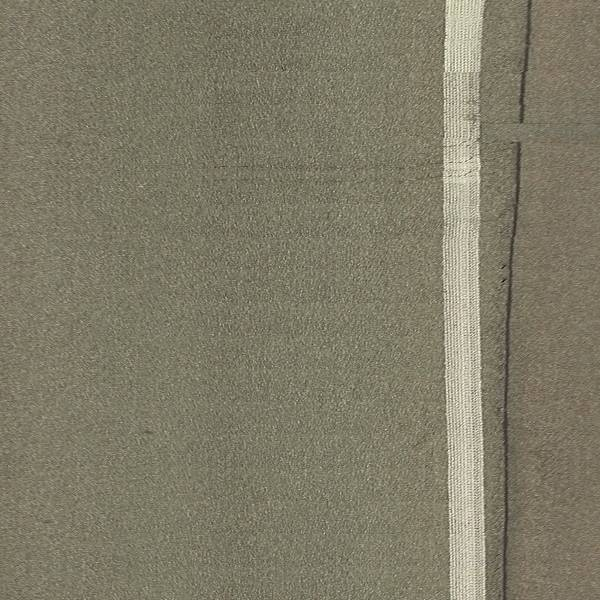road_damage: (497, 137, 527, 600), (196, 153, 441, 174)
